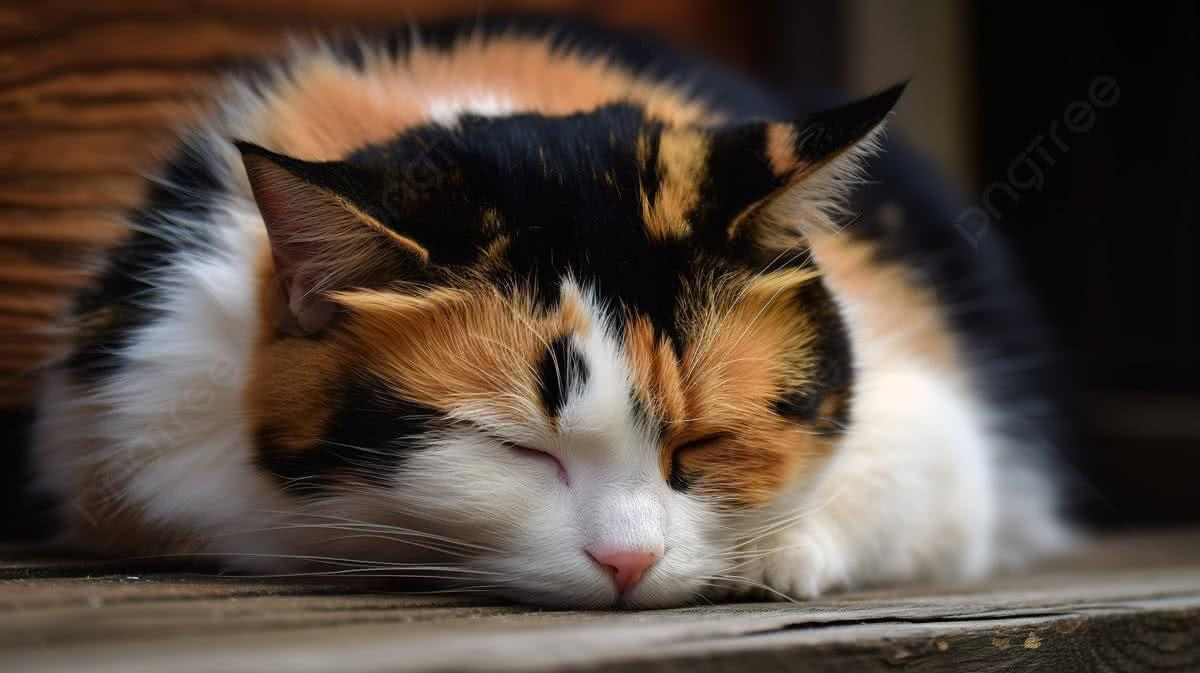cat: (112, 47, 1118, 622)
